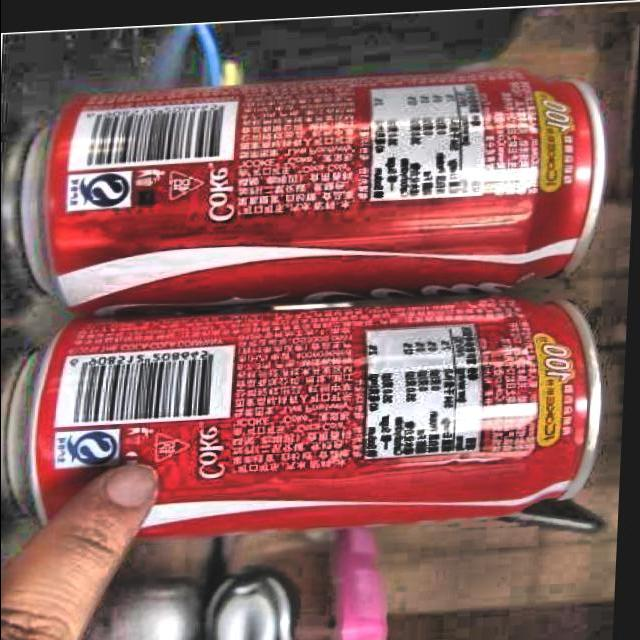litter: (2, 286, 616, 542), (21, 61, 609, 312)
